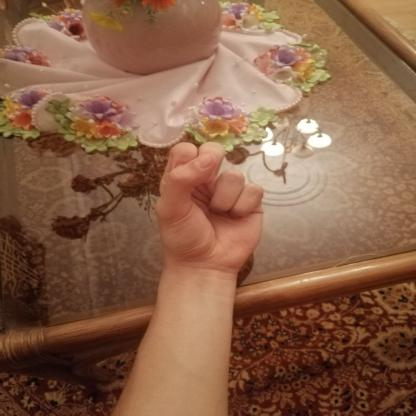QAAF: (143, 132, 275, 280)
